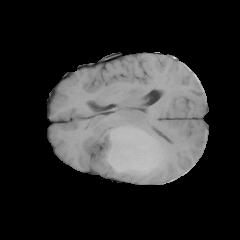glioma: (76, 116, 167, 182)
